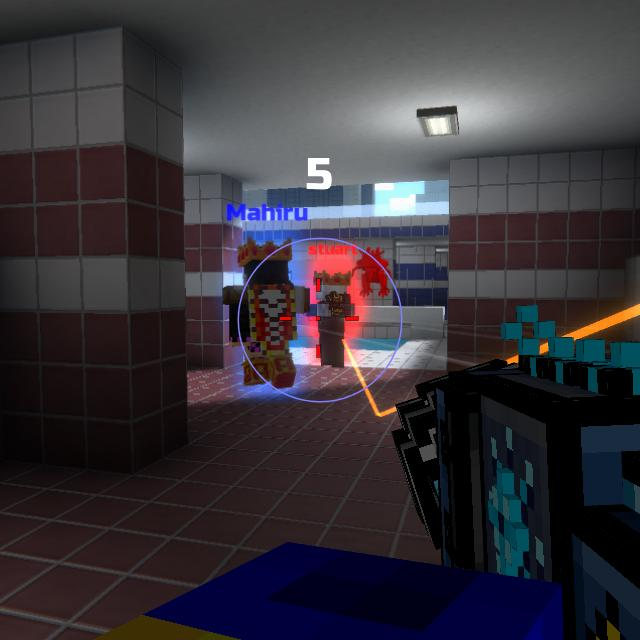Enemy: (306, 269, 355, 368)
